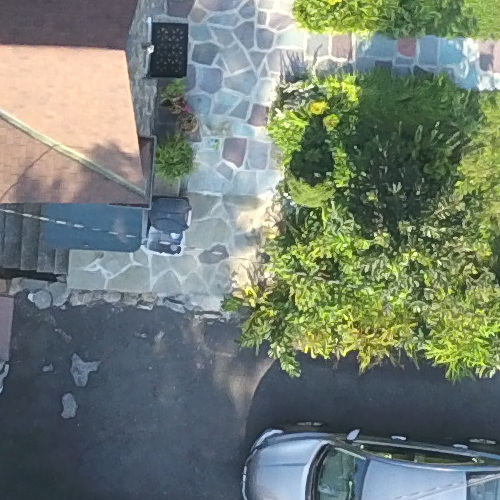flower pot: (173, 113, 200, 137), (163, 78, 186, 105)
no larvae: (145, 188, 197, 234), (137, 220, 185, 260), (171, 111, 198, 135), (161, 76, 184, 103)
recycling bin: (139, 222, 187, 262)
trash bin: (147, 190, 199, 236)
